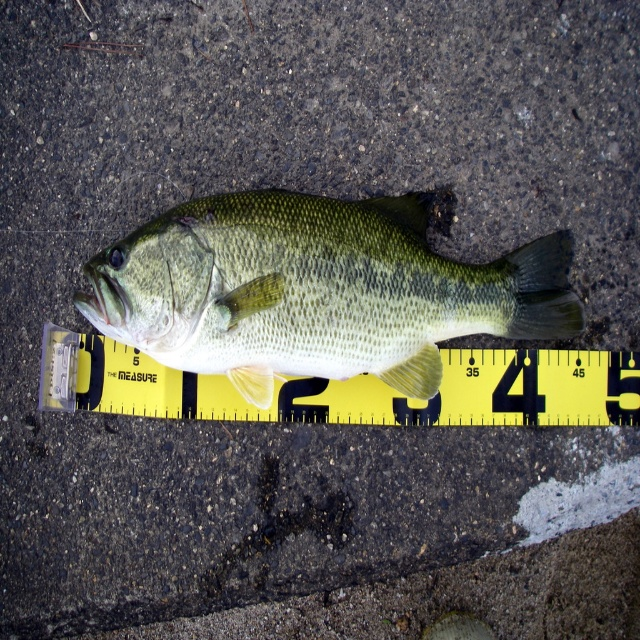Fish: (59, 177, 582, 422)
